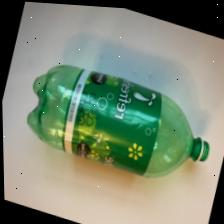plastic: (12, 37, 222, 209)
